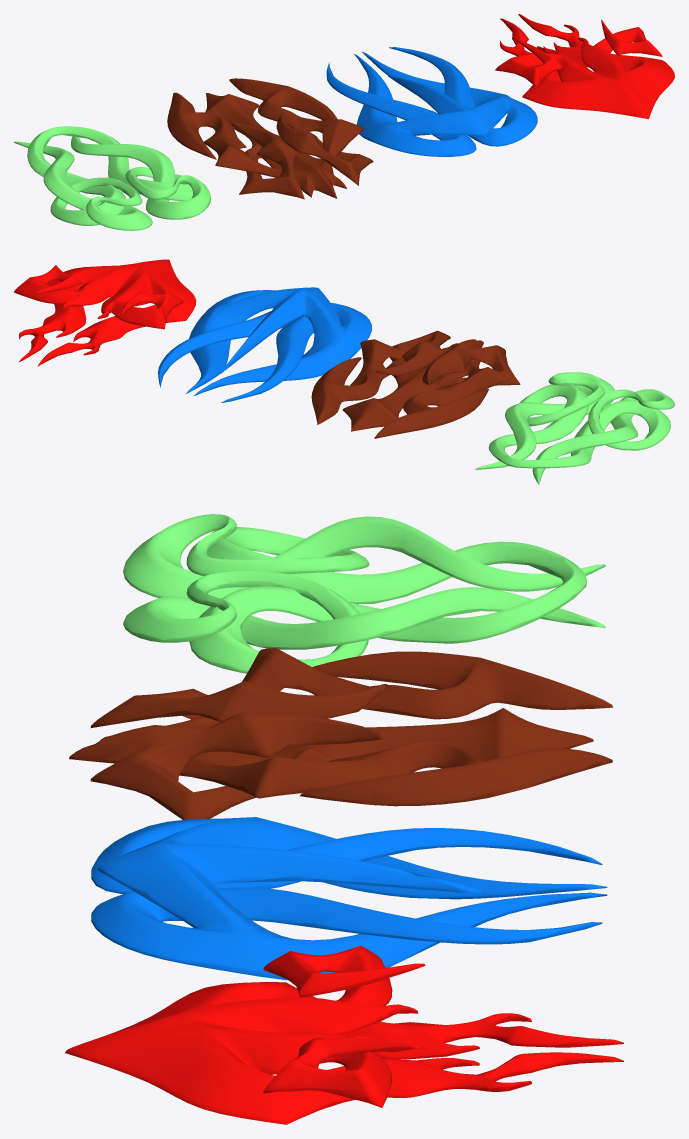
The model's file is Symbols_2_Lowpoly.fbx.
3 renders of one model, top to bottom at view 1: azimuth 30°, elevation 25°; view 2: azimuth 150°, elevation 25°; view 3: azimuth 270°, elevation 25°, orthographic. The views are drawn at different scales.
Visible parts, largest first — view 1: polySurface5, polySurface3, polySurface8, polySurface2; view 2: polySurface5, polySurface3, polySurface8, polySurface2; view 3: polySurface5, polySurface3, polySurface8, polySurface2.
Boxes of the visible parts, box(x1,y1,x2,y2) form: polySurface5: box(167, 78, 373, 199); polySurface3: box(326, 47, 537, 156); polySurface8: box(14, 126, 210, 230); polySurface2: box(495, 14, 674, 119); polySurface5: box(311, 330, 520, 438); polySurface3: box(158, 287, 371, 402); polySurface8: box(475, 372, 674, 484); polySurface2: box(14, 259, 196, 366); polySurface5: box(69, 648, 612, 819); polySurface3: box(91, 817, 607, 980); polySurface8: box(123, 514, 605, 673); polySurface2: box(65, 945, 623, 1124).
Size of the model in its own units: 316 by 18.99 by 125.
